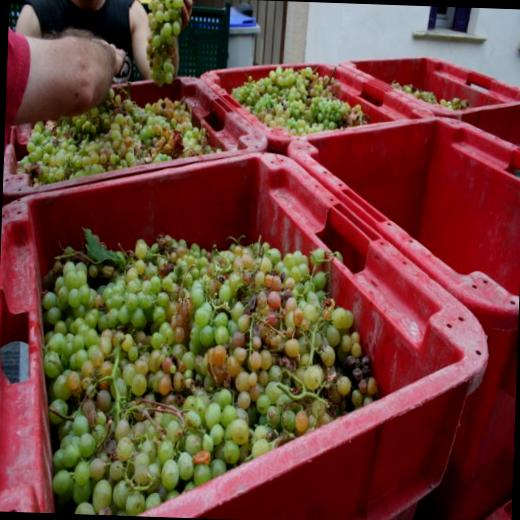Orange: (30, 230, 383, 520), (15, 80, 225, 191), (225, 63, 371, 138), (144, 0, 181, 89), (388, 83, 471, 111)
